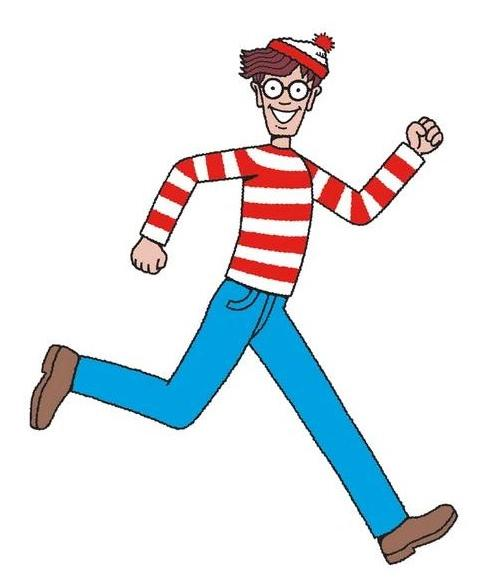waldos: (28, 33, 461, 565)
